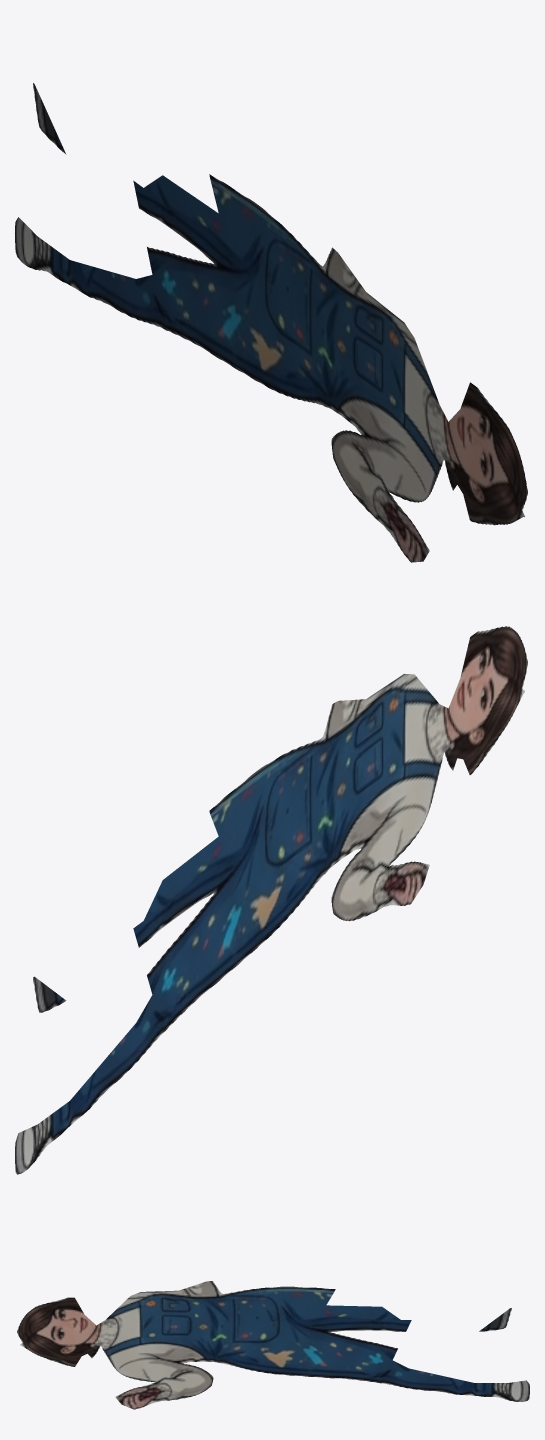
Rendered from person.obj.
The picture shows the model from 3 angles, top to bottom: view 1: azimuth 30°, elevation 25°; view 2: azimuth 150°, elevation 25°; view 3: azimuth 270°, elevation 25°; orthographic projection. The views are drawn at different scales.
Visible parts, largest first — view 1: person_cutout; view 2: person_cutout; view 3: person_cutout.
Boxes of the visible parts, box(x1,y1,x2,y2) form: person_cutout: box(15, 83, 527, 562); person_cutout: box(15, 626, 527, 1174); person_cutout: box(17, 1281, 529, 1409).
Size of the model in its own units: 0 by 0.0656 by 0.15.
